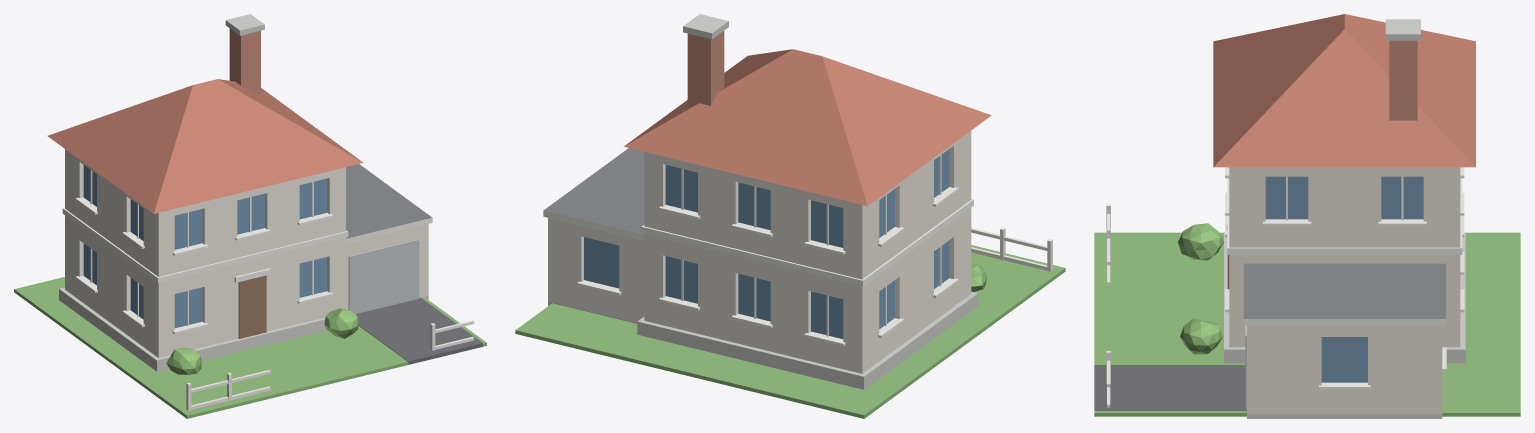
The picture shows the model from 3 angles, left to right: view 1: azimuth 30°, elevation 25°; view 2: azimuth 150°, elevation 25°; view 3: azimuth 270°, elevation 25°; orthographic projection. The views are drawn at different scales.
Parts seen in each view (by area): view 1: r_1_1_c; view 2: r_1_1_c; view 3: r_1_1_c.
Part boxes in pixels (x1,y1,x2,y2): r_1_1_c: (14,14,486,418); r_1_1_c: (515,14,1065,418); r_1_1_c: (1094,14,1520,418).
Size of the model in its own units: 12.27 by 9.95 by 12.
